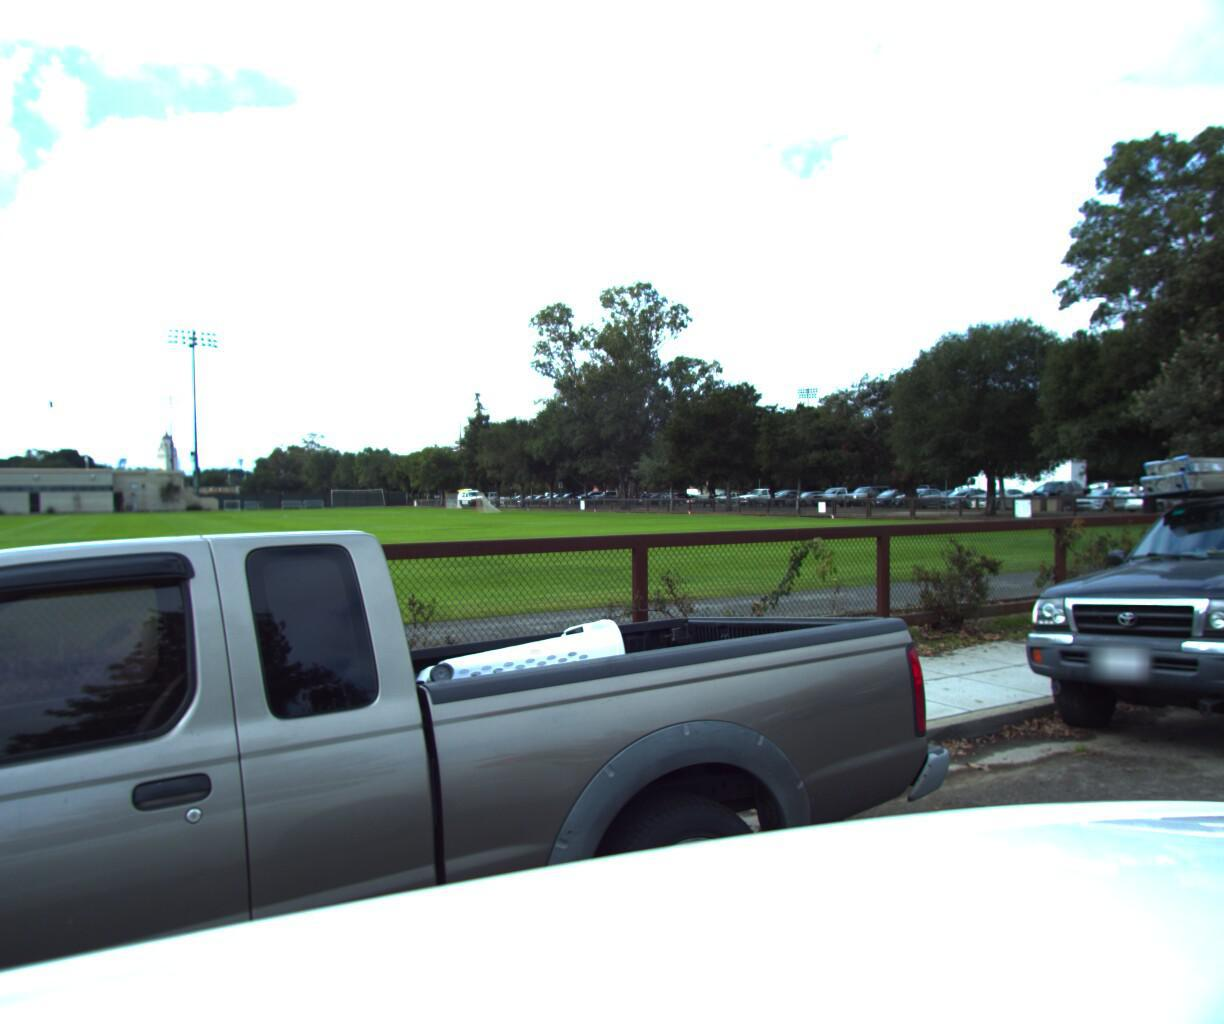car: (0, 493, 997, 1024), (974, 429, 1224, 816)
